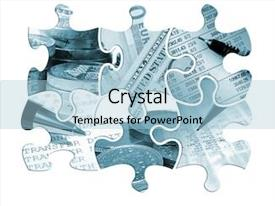puzzle piece: (18, 1, 126, 124), (150, 73, 254, 197), (95, 1, 197, 121), (163, 1, 256, 111), (92, 91, 186, 195), (16, 89, 125, 177)
